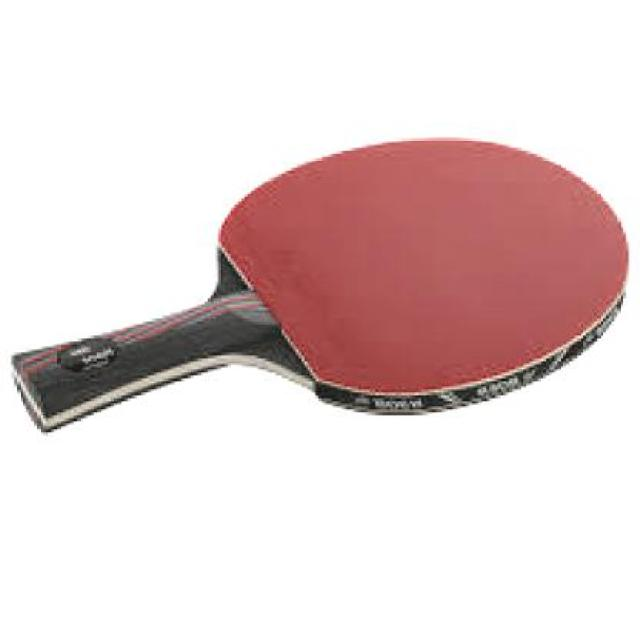table_tennis_racket: (210, 122, 628, 412)
